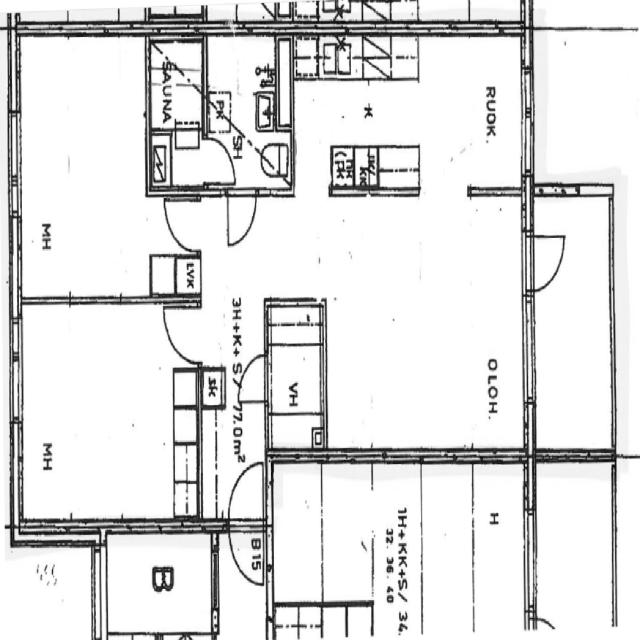door: (228, 458, 266, 529), (228, 521, 264, 588), (163, 192, 200, 255), (528, 231, 566, 291), (225, 186, 259, 249), (162, 300, 194, 364), (202, 134, 238, 188), (237, 353, 269, 404)
window: (6, 307, 28, 431), (519, 290, 540, 408), (6, 104, 26, 210), (523, 501, 541, 608), (381, 446, 424, 467)
zone: (202, 189, 530, 456), (12, 299, 197, 526), (12, 35, 156, 301), (294, 34, 524, 190), (205, 34, 291, 193), (266, 304, 326, 453), (149, 35, 205, 190), (200, 368, 224, 409), (332, 147, 355, 187)
